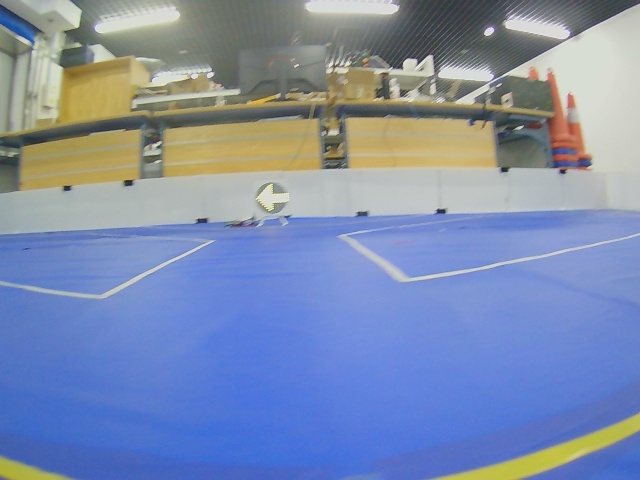left_yellow: (255, 182, 290, 215)
